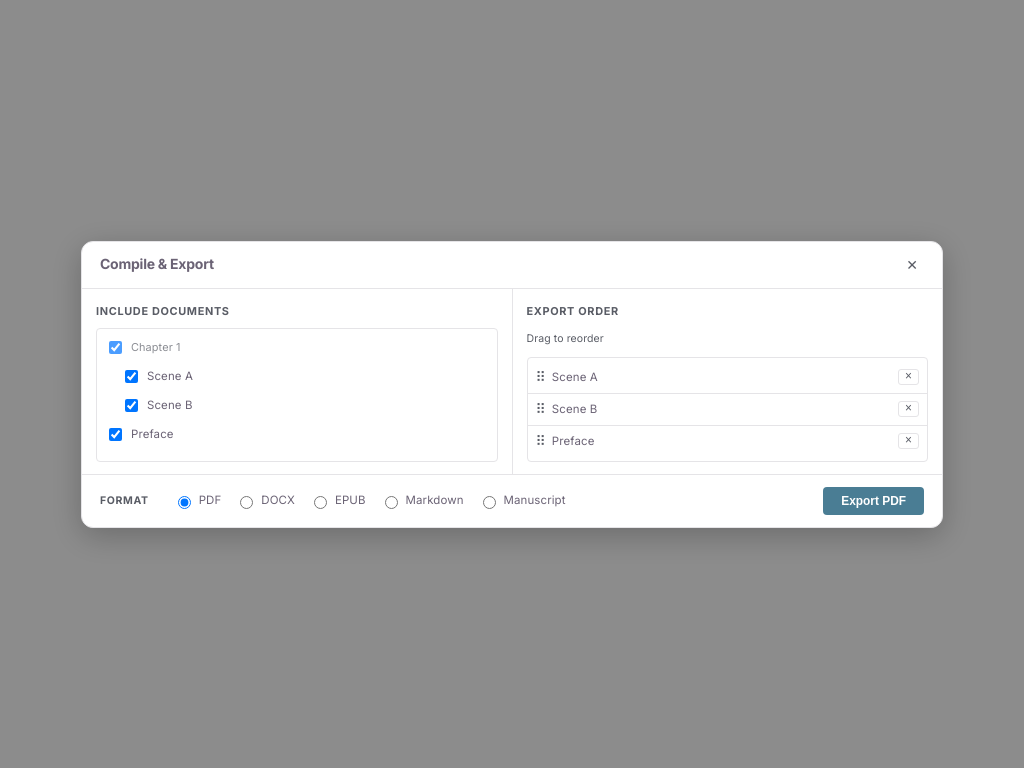
CompileModal — remove button › removing an item from the panel also unchecks its checkbox in the left tree
Click the button named "Remove Scene A from export": click(908, 377) x1=898 y1=369 x2=919 y2=385
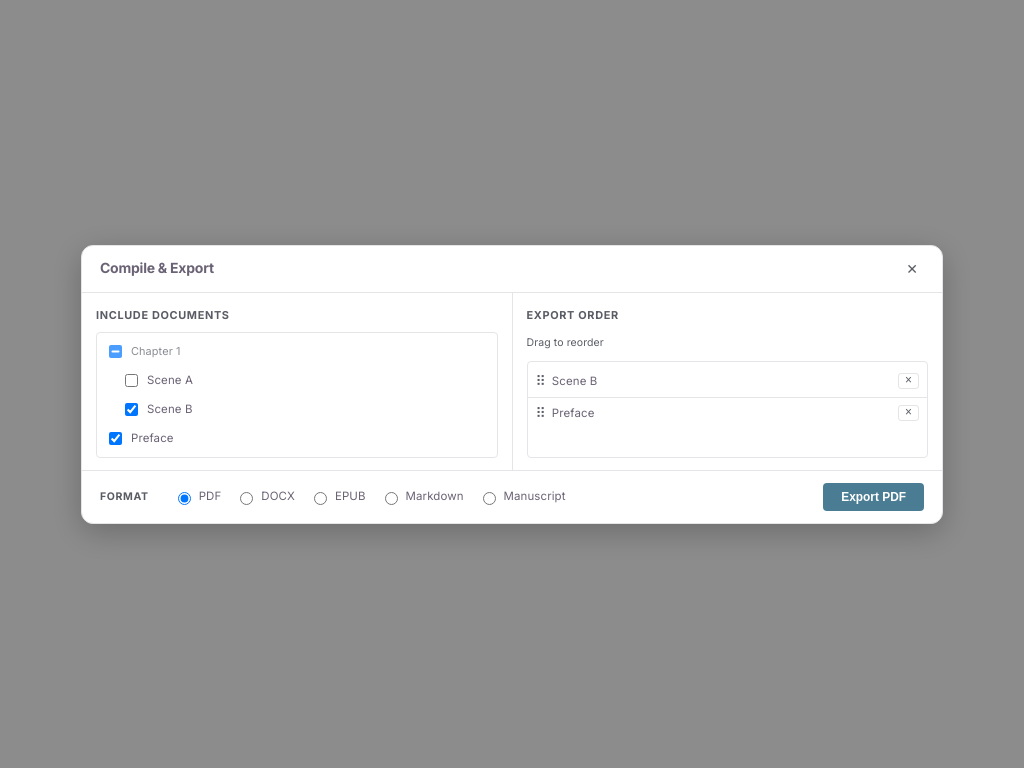
Check: the checkbox labelled "Scene A" is not checked, box x1=125 y1=374 x2=138 y2=386
